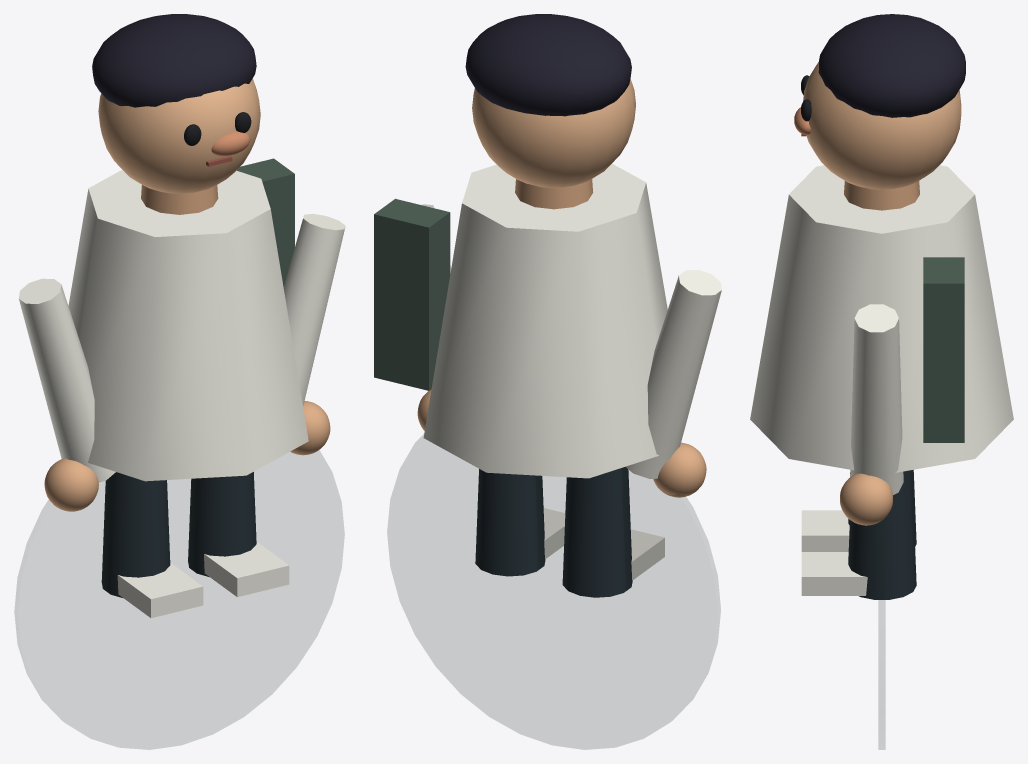
File: avatar_pharmacist_white.glb
The picture shows the model from 3 angles, left to right: view 1: azimuth 30°, elevation 25°; view 2: azimuth 150°, elevation 25°; view 3: azimuth 270°, elevation 25°; orthographic projection. The views are drawn at different scales.
Visible parts, largest first — view 1: torso, shadow, hair, head, arm_-0.255, leg_-0.095, arm_0.255, leg_0.095, shoe_-0.095, shoe_0.095, shoulder_bag, hand_-0.255 (+3 smaller); view 2: shadow, torso, hair, shoulder_bag, head, arm_-0.255, leg_-0.095, leg_0.095, hand_-0.255, neck, shoe_-0.095, shoe_0.095; view 3: torso, hair, head, arm_0.255, shoulder_bag, leg_0.095, shoe_0.095, hand_0.255, shoe_-0.095, neck, shadow.
Part boxes in pixels (x1,y1,x2,y2): torso: (68, 169, 308, 481); shadow: (15, 450, 344, 749); hair: (92, 14, 256, 107); head: (98, 78, 260, 193); arm_-0.255: (18, 278, 115, 482); leg_-0.095: (101, 472, 170, 597); arm_0.255: (283, 214, 345, 405); leg_0.095: (188, 472, 256, 576); shoe_-0.095: (117, 563, 203, 618); shoe_0.095: (204, 542, 289, 597); shoulder_bag: (236, 158, 294, 286); hand_-0.255: (44, 458, 98, 511); shadow: (387, 434, 720, 749); torso: (423, 163, 667, 478); hair: (465, 14, 631, 116); shoulder_bag: (374, 198, 450, 390); head: (472, 78, 635, 187); arm_-0.255: (625, 270, 721, 478); leg_-0.095: (562, 467, 632, 597); leg_0.095: (475, 469, 545, 576); hand_-0.255: (653, 442, 706, 497); neck: (515, 179, 592, 209); shoe_-0.095: (630, 529, 664, 580); shoe_0.095: (543, 508, 565, 559); torso: (750, 165, 1013, 472); hair: (818, 14, 965, 117); head: (803, 62, 961, 189); arm_0.255: (850, 304, 903, 494); shoulder_bag: (923, 257, 964, 442); leg_0.095: (848, 470, 916, 599); shoe_0.095: (801, 552, 867, 595); hand_0.255: (840, 473, 892, 525); shoe_-0.095: (801, 510, 849, 551); neck: (844, 181, 919, 210); shadow: (879, 518, 884, 749).
Size of the model in its own units: 0.72 by 1.51 by 0.51.
